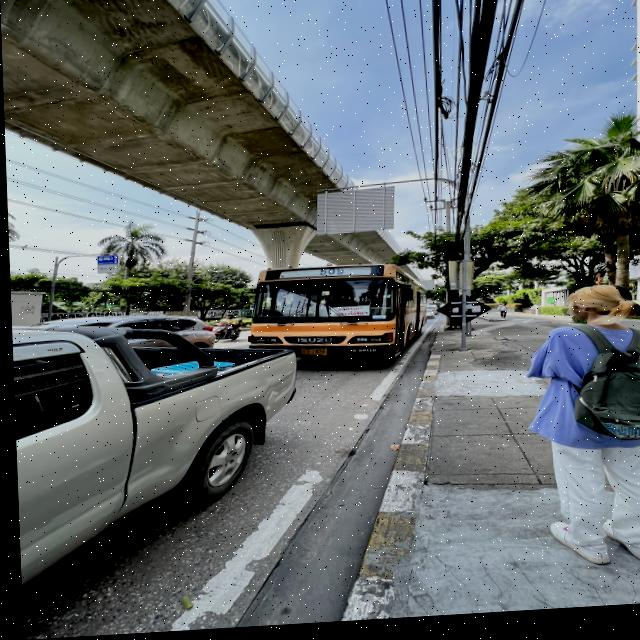BMTA-bus: (244, 266, 422, 370)
Bus-Line-Number: (311, 272, 348, 280)
Destination-Sign-Extra-Bus: (330, 310, 369, 322)
